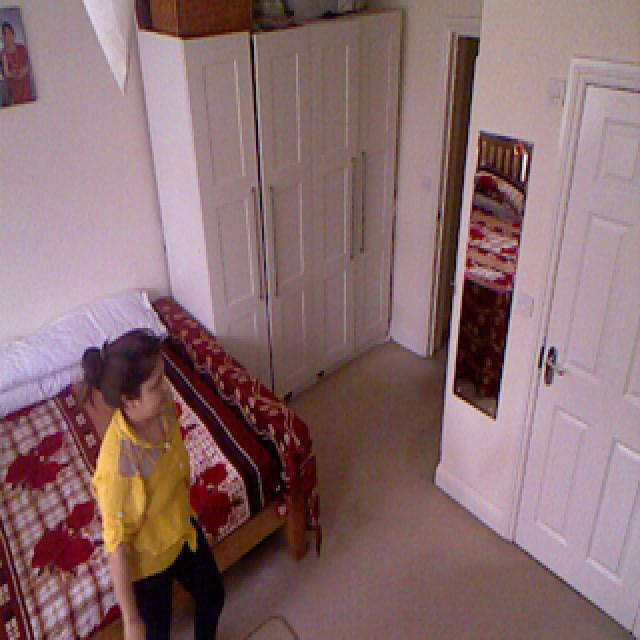standing: (77, 314, 229, 640)
